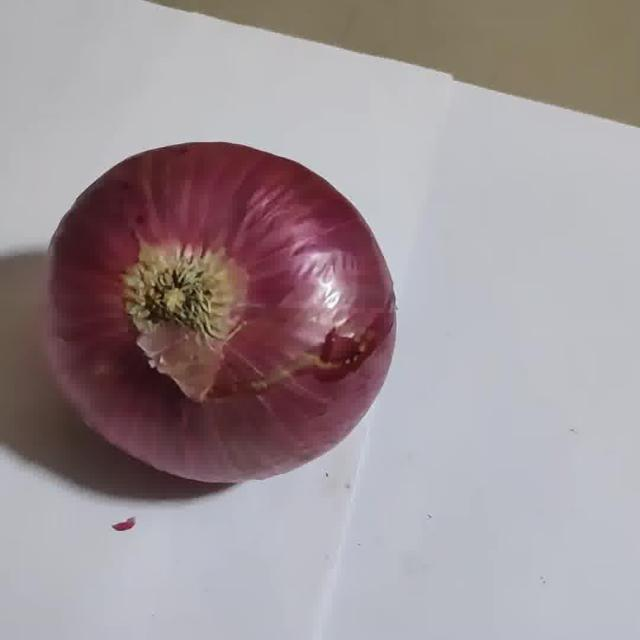Onion: (50, 142, 396, 484)
